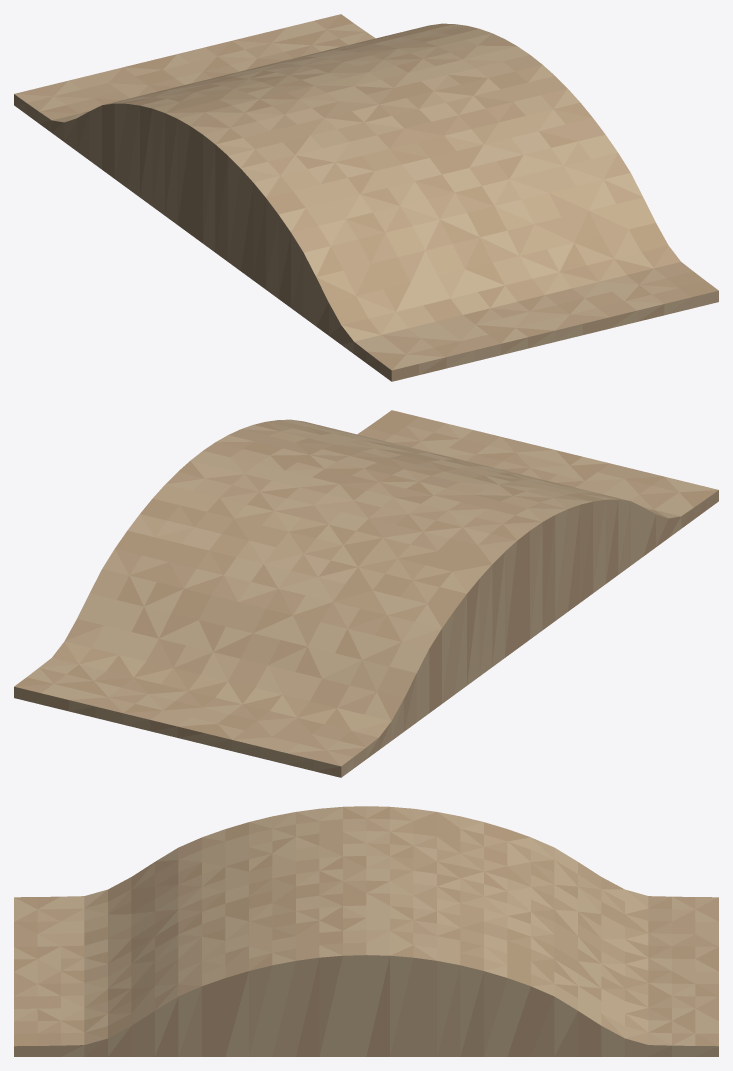
The model's file is 01_dirt_hill.glb.
The picture shows the model from 3 angles, top to bottom: view 1: azimuth 30°, elevation 25°; view 2: azimuth 150°, elevation 25°; view 3: azimuth 270°, elevation 25°; orthographic projection. The views are drawn at different scales.
Visible parts, largest first — view 1: ObstacleMesh; view 2: ObstacleMesh; view 3: ObstacleMesh.
Part boxes in pixels (box(x1,y1,x2,y2)): ObstacleMesh: box(14, 14, 718, 381); ObstacleMesh: box(14, 410, 718, 777); ObstacleMesh: box(14, 806, 718, 1056).
Size of the model in its own units: 6 by 1.91 by 12.
